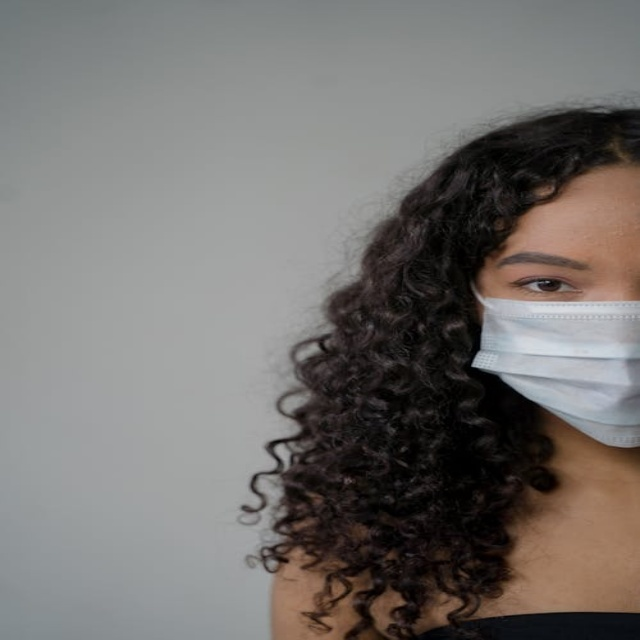Mascara: (467, 281, 640, 447)
Sin_gafas: (485, 247, 628, 298)
